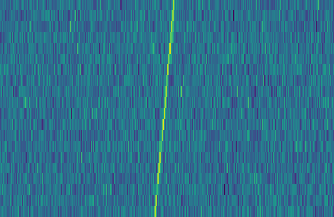signal: (149, 0, 178, 217)
